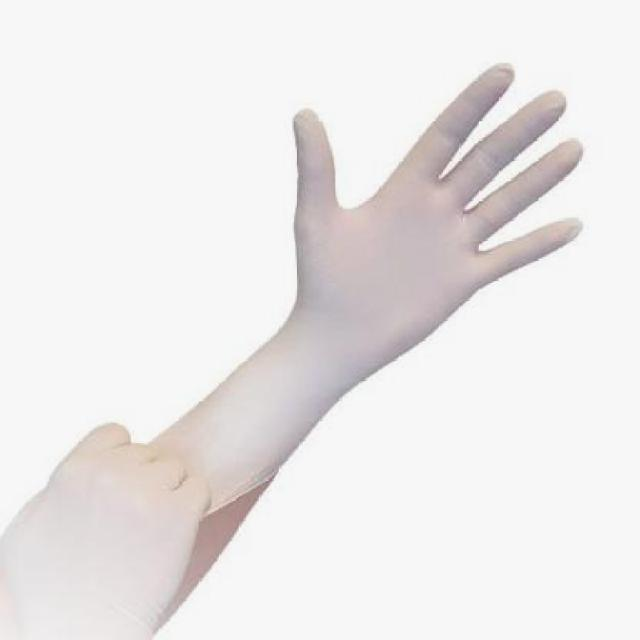glove: (130, 72, 596, 430), (2, 432, 227, 639)
